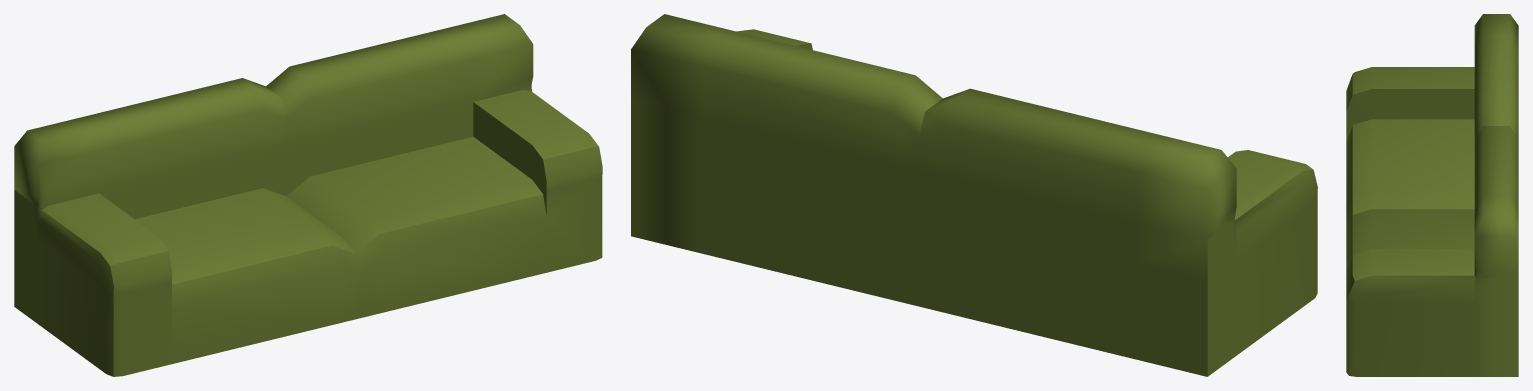
File: Couch.FBX
3 renders of one model, left to right at view 1: azimuth 30°, elevation 25°; view 2: azimuth 150°, elevation 25°; view 3: azimuth 270°, elevation 25°, orthographic. The views are drawn at different scales.
Parts seen in each view (by area): view 1: couch; view 2: couch; view 3: couch.
Part boxes in pixels (x1=…): couch: x1=14, y1=14, x2=602, y2=376; couch: x1=631, y1=14, x2=1317, y2=376; couch: x1=1346, y1=14, x2=1518, y2=376.
Size of the model in its own units: 0.597 by 0.2052 by 0.2058.
